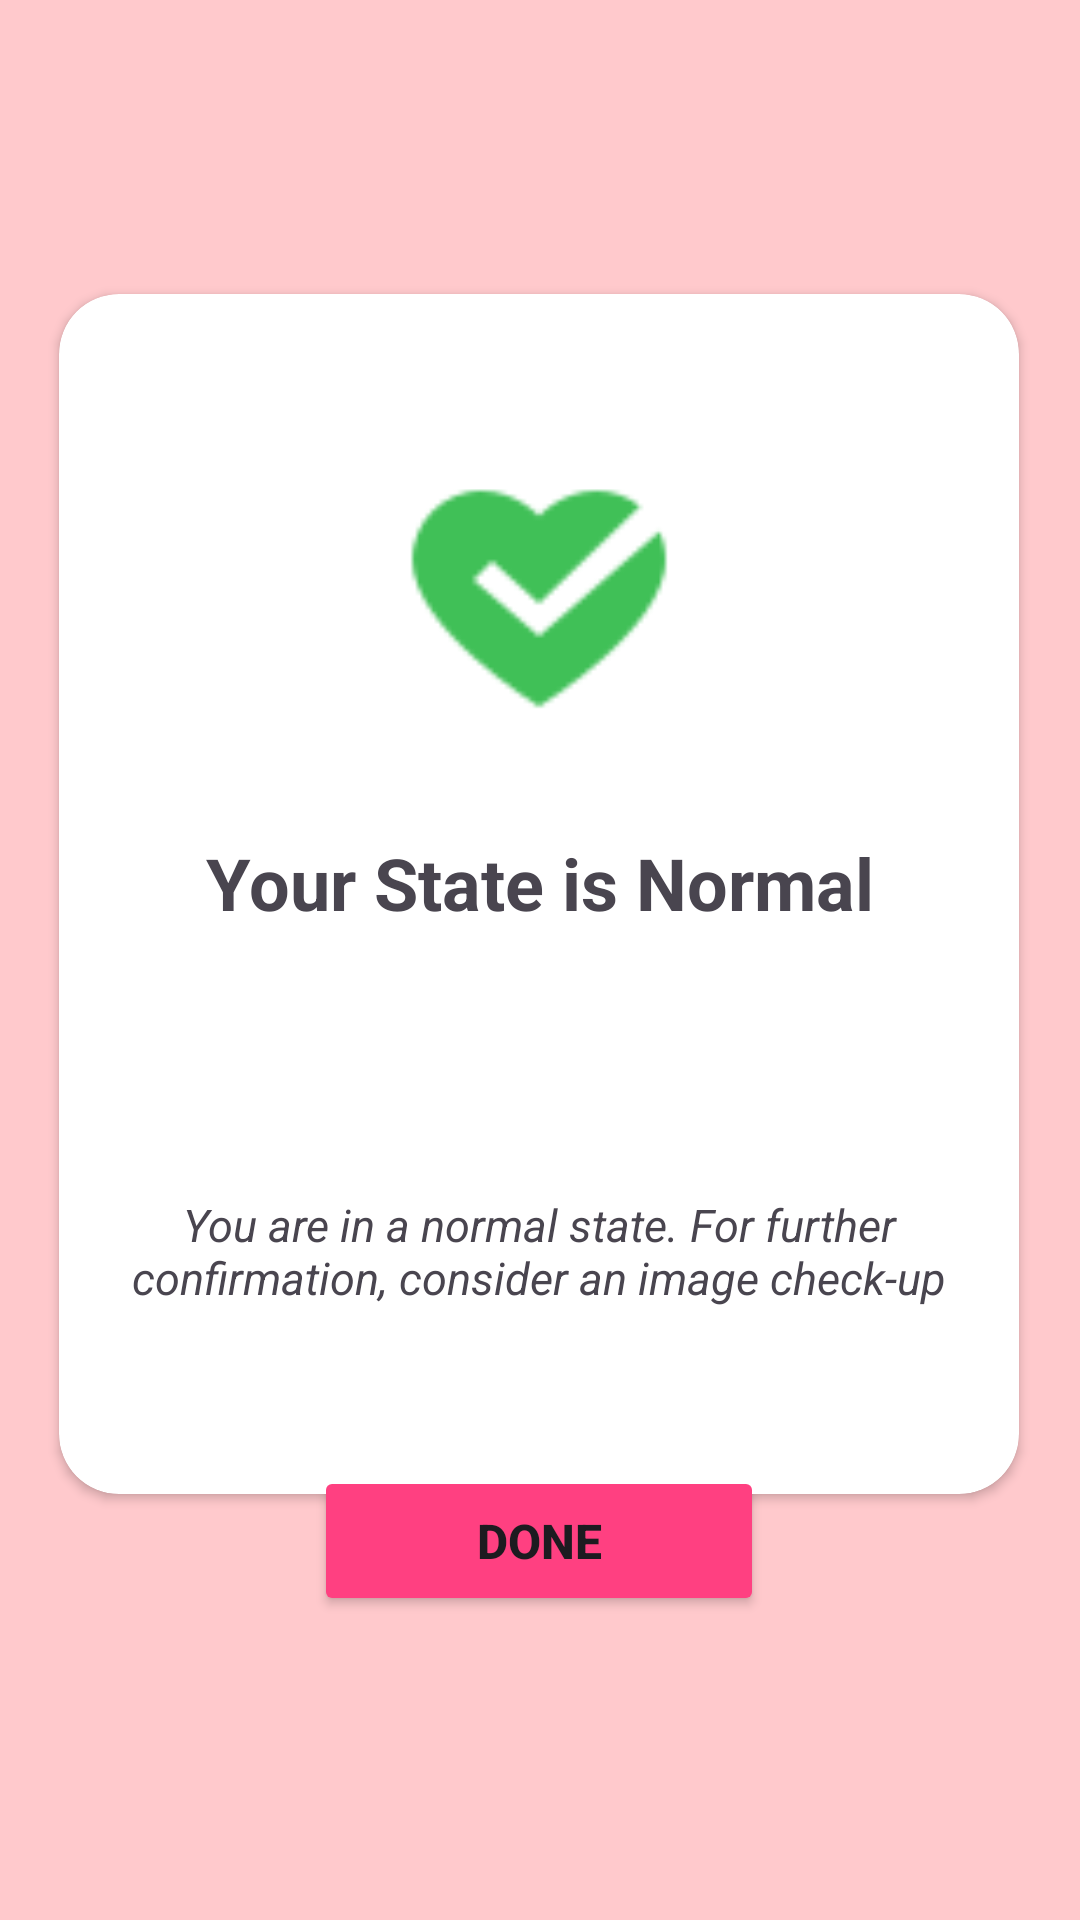

Where to tap for icons on this 1080 x 1920 app screen, as point (x, y):
healthy: point (539, 598)
